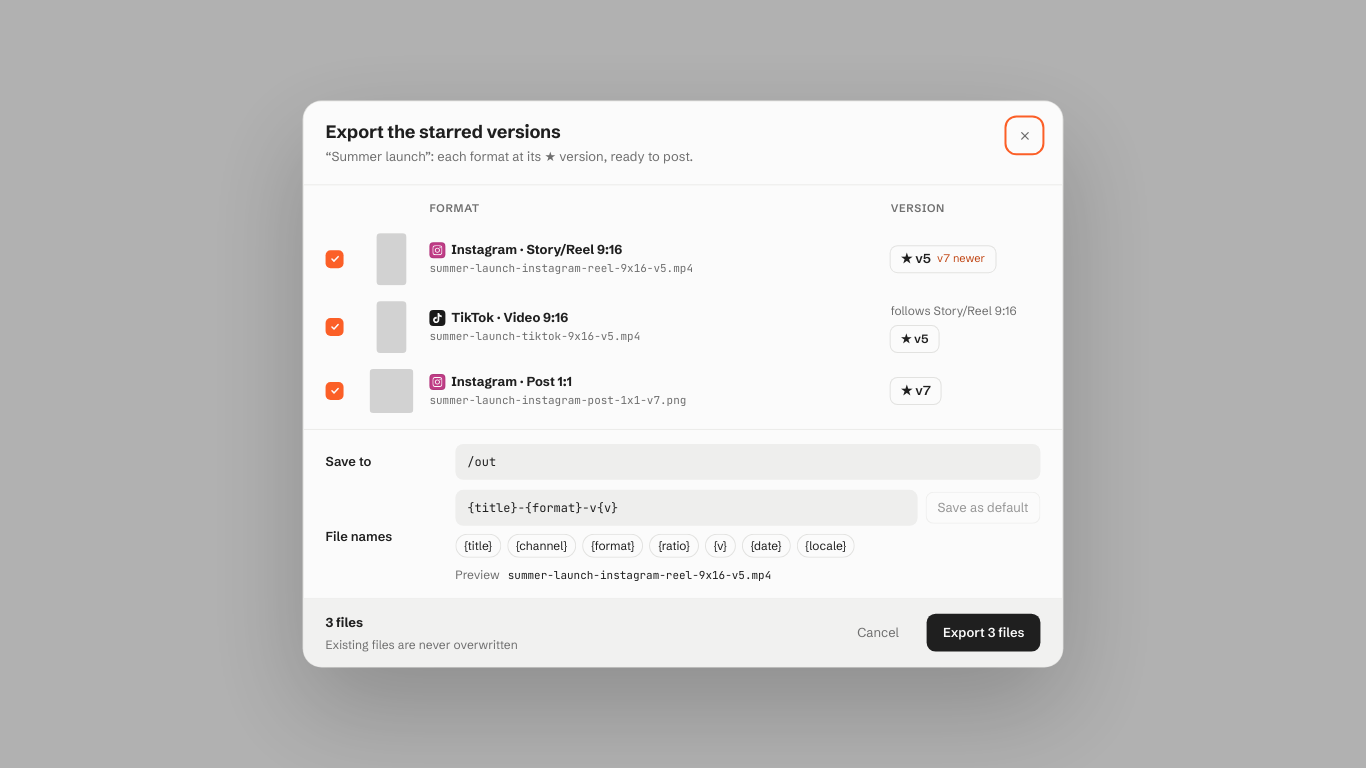
Test: ExportDialog · the starred versions › shows a mapped message for a coded refusal
Click the button "Export 3 files" at [984, 633], box [927, 614, 1041, 652]
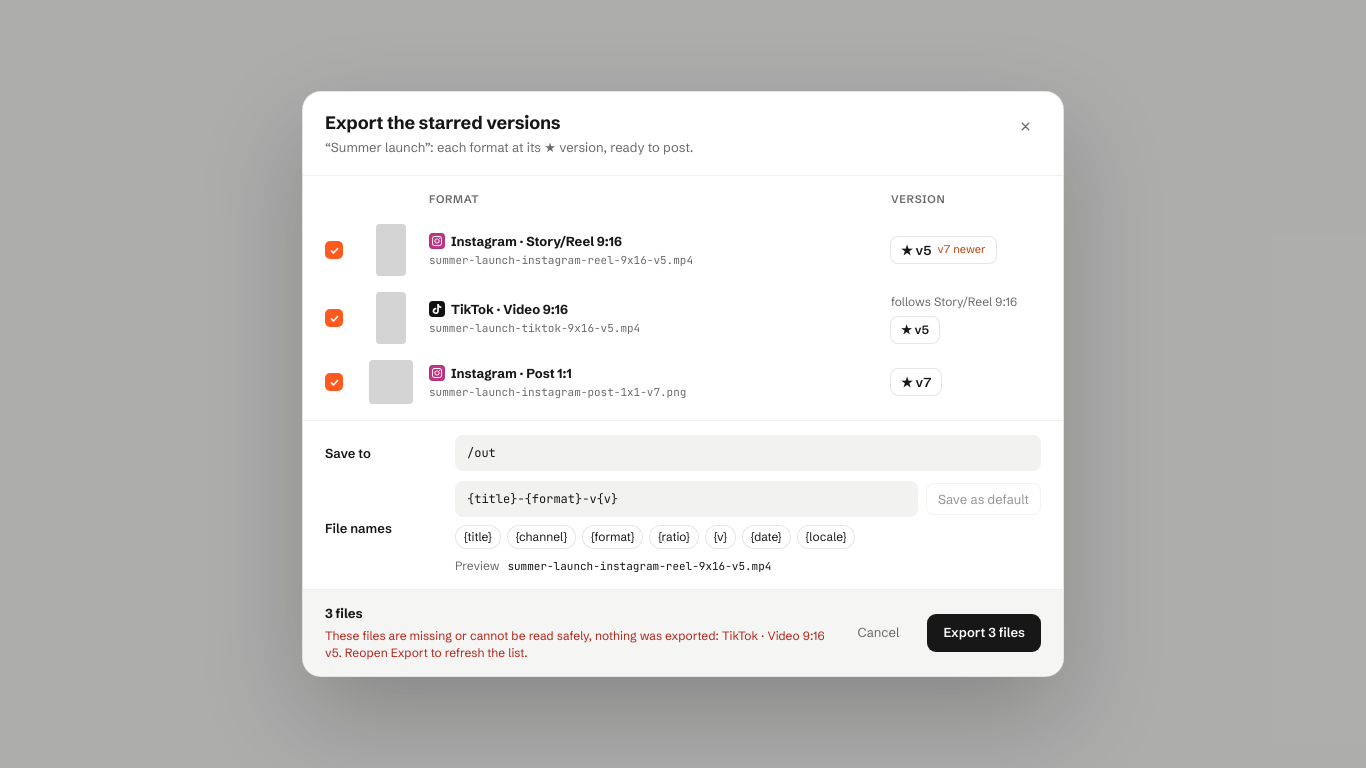
Expected: the message shows "These files are missing or cannot be read safely, nothing was exported: TikTok · Video 9:16 v5. Reopen Export to refresh the list.", [325, 628, 825, 660]
